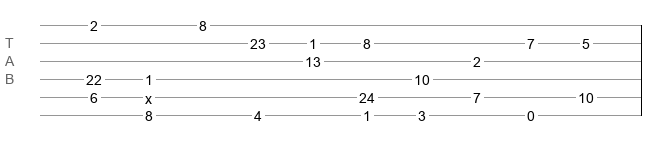0: (527, 108, 535, 118)
1: (145, 72, 153, 82), (309, 36, 317, 46), (363, 108, 371, 118)
10: (414, 72, 430, 82), (578, 90, 594, 100)
13: (305, 54, 321, 64)
2: (90, 18, 98, 28), (473, 54, 481, 64)
22: (86, 72, 102, 82)
23: (250, 36, 266, 46)
24: (359, 90, 375, 100)
3: (418, 108, 426, 118)
4: (254, 108, 262, 118)
5: (582, 36, 590, 46)
6: (90, 90, 98, 100)
7: (473, 90, 481, 100), (527, 36, 535, 46)
8: (145, 108, 153, 118), (199, 18, 207, 28), (363, 36, 371, 46)
x: (145, 91, 152, 99)
